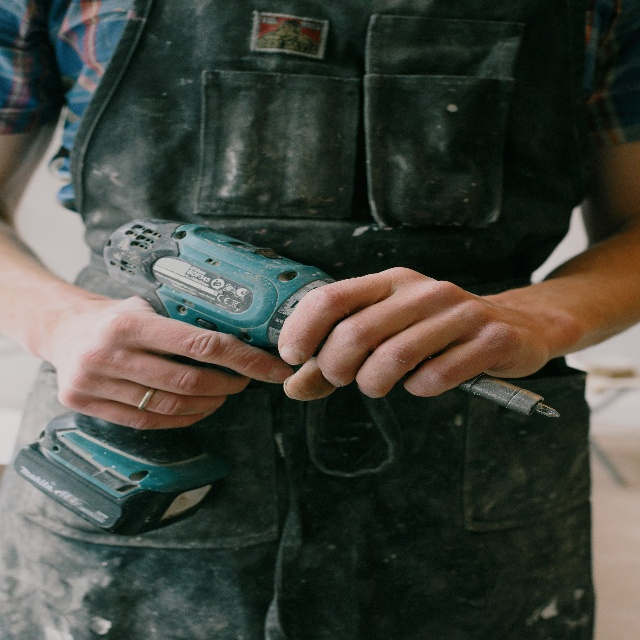Sin_guantes: (277, 266, 550, 402), (53, 291, 294, 430)
